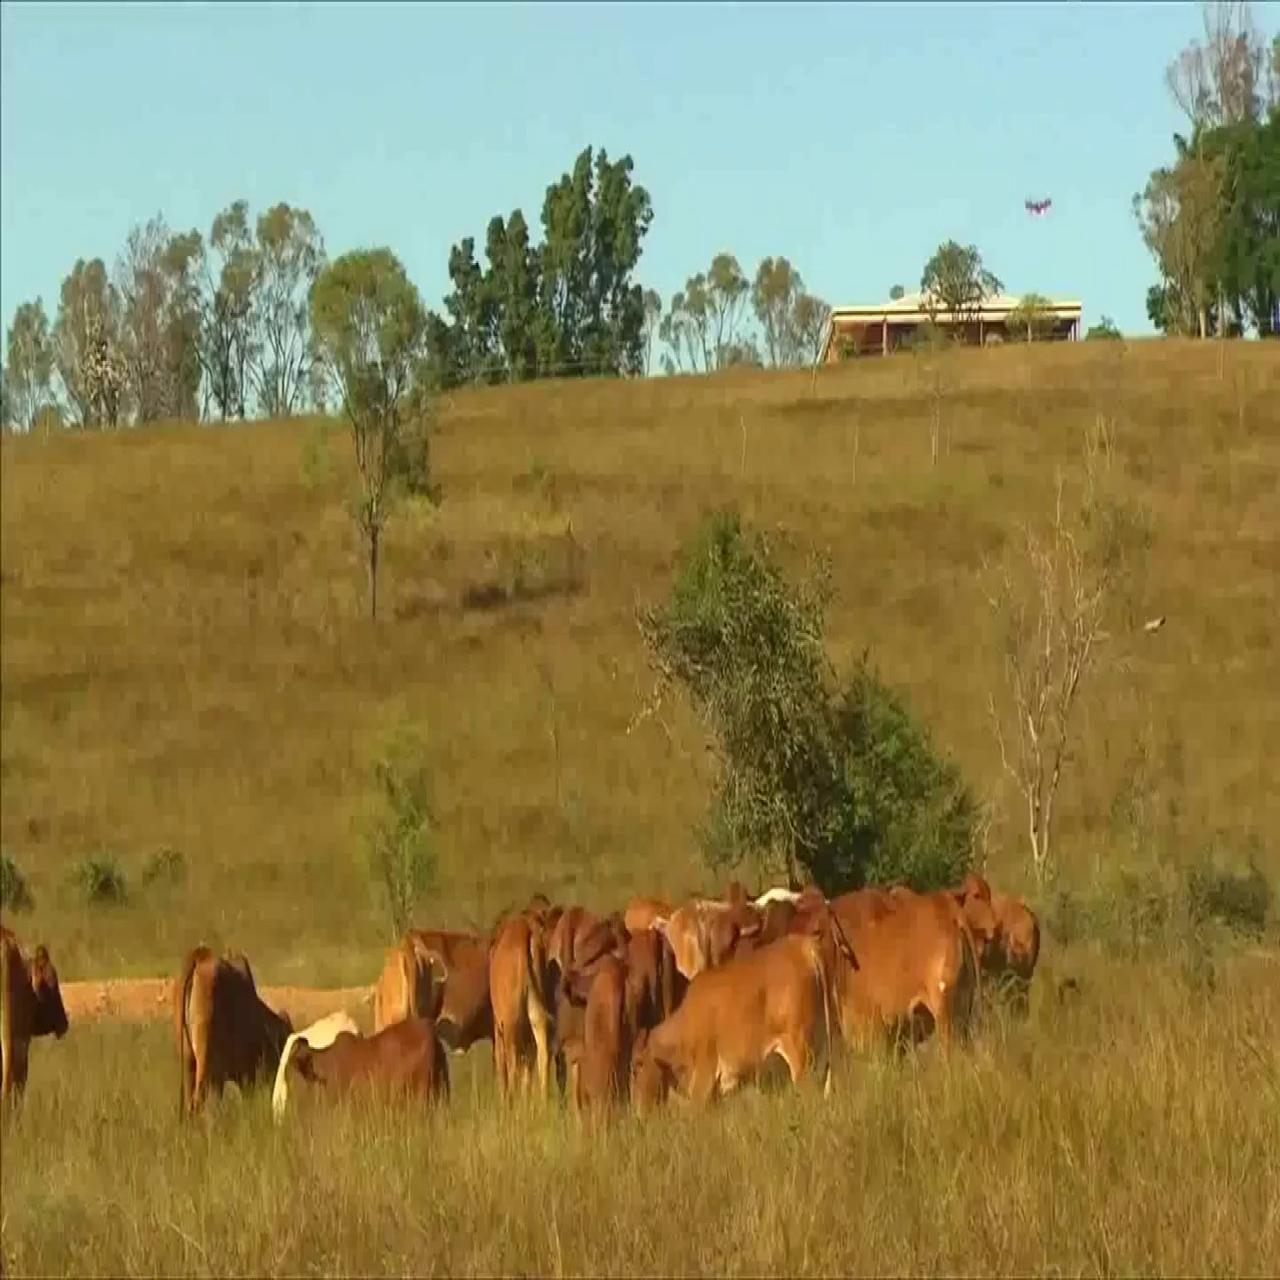cow: (634, 946, 825, 1129), (835, 900, 979, 1102), (178, 941, 300, 1123), (484, 896, 560, 1160), (284, 1009, 458, 1124), (0, 924, 68, 1126), (372, 930, 450, 1056), (947, 871, 1002, 949)
